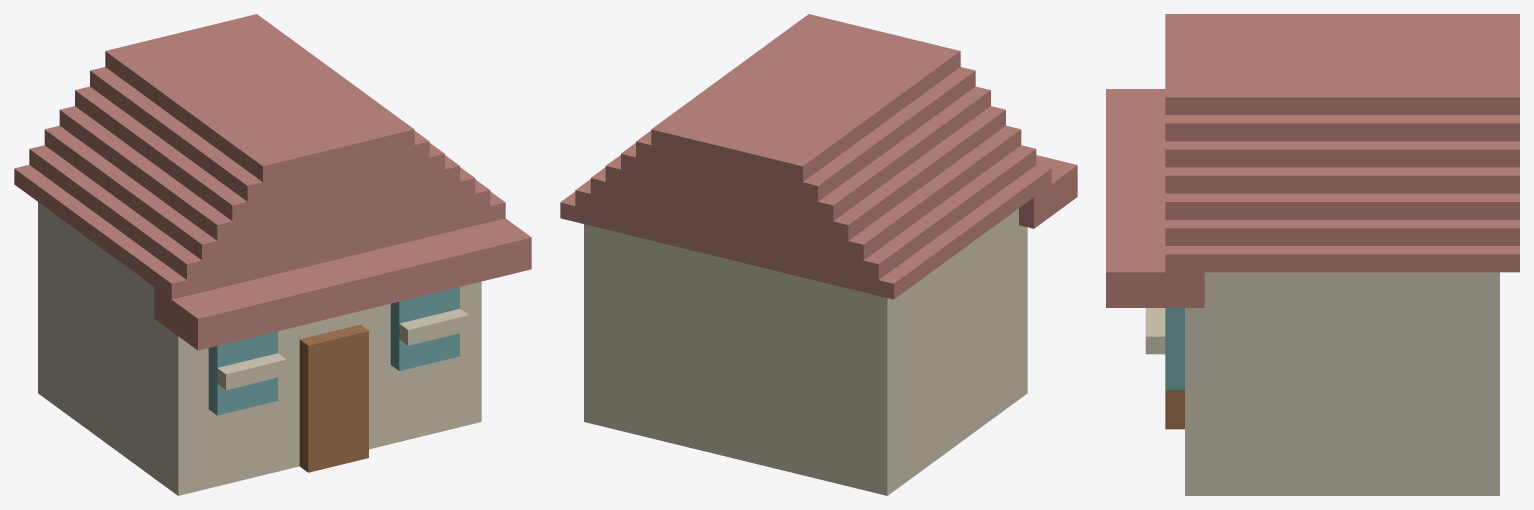
File: commerce-13.glb
3 renders of one model, left to right at view 1: azimuth 30°, elevation 25°; view 2: azimuth 150°, elevation 25°; view 3: azimuth 270°, elevation 25°, orthographic. The views are drawn at different scales.
Parts seen in each view (by area): view 1: Storefront; view 2: Storefront; view 3: Storefront.
Part boxes in pixels (x1,y1,x2,y2): Storefront: (14, 14, 531, 495); Storefront: (560, 14, 1077, 495); Storefront: (1106, 14, 1519, 495).
Bounding box in the file's own units: 1.76 × 1.6 × 1.68.
